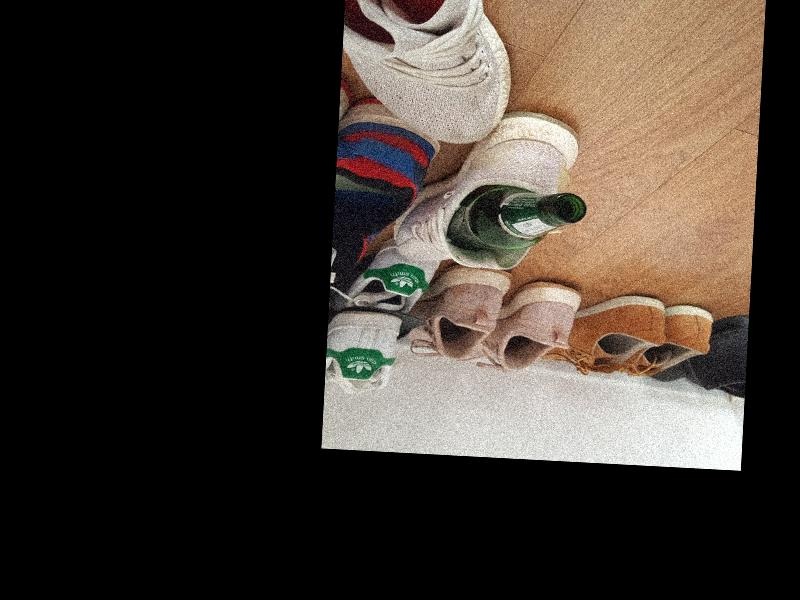Beer: (447, 185, 587, 256)
